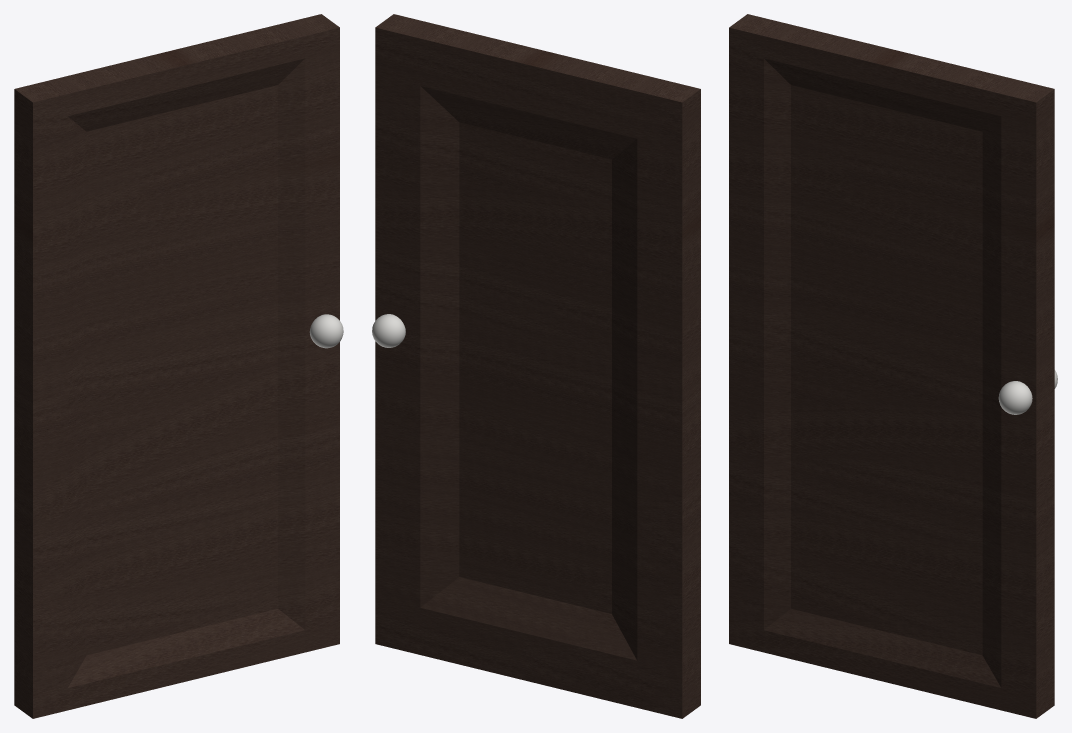
File: _finalDoor.fbx
The picture shows the model from 3 angles, left to right: view 1: azimuth 30°, elevation 25°; view 2: azimuth 150°, elevation 25°; view 3: azimuth 330°, elevation 25°; orthographic projection.
Visible parts, largest first — view 1: door; view 2: door; view 3: door.
Boxes of the visible parts, bbox=[...] form: door: bbox=[14, 14, 343, 718]; door: bbox=[372, 14, 700, 718]; door: bbox=[729, 14, 1057, 718].
Bounding box in the file's own units: 51.08 × 97.95 × 12.19.
1 material, 1 textured.
